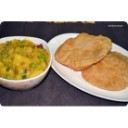poori: (56, 31, 112, 69), (84, 50, 128, 92)
